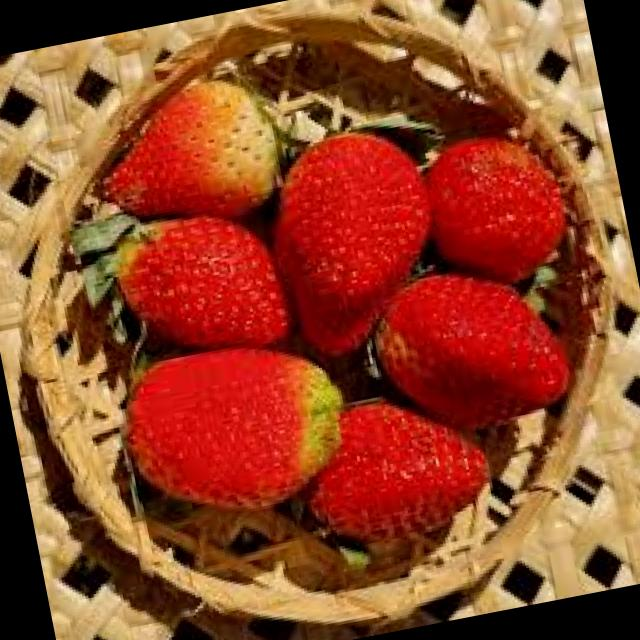tofu: (329, 241, 612, 462), (258, 94, 458, 360), (110, 330, 356, 530), (294, 365, 502, 564), (61, 80, 296, 238), (88, 181, 288, 364)
